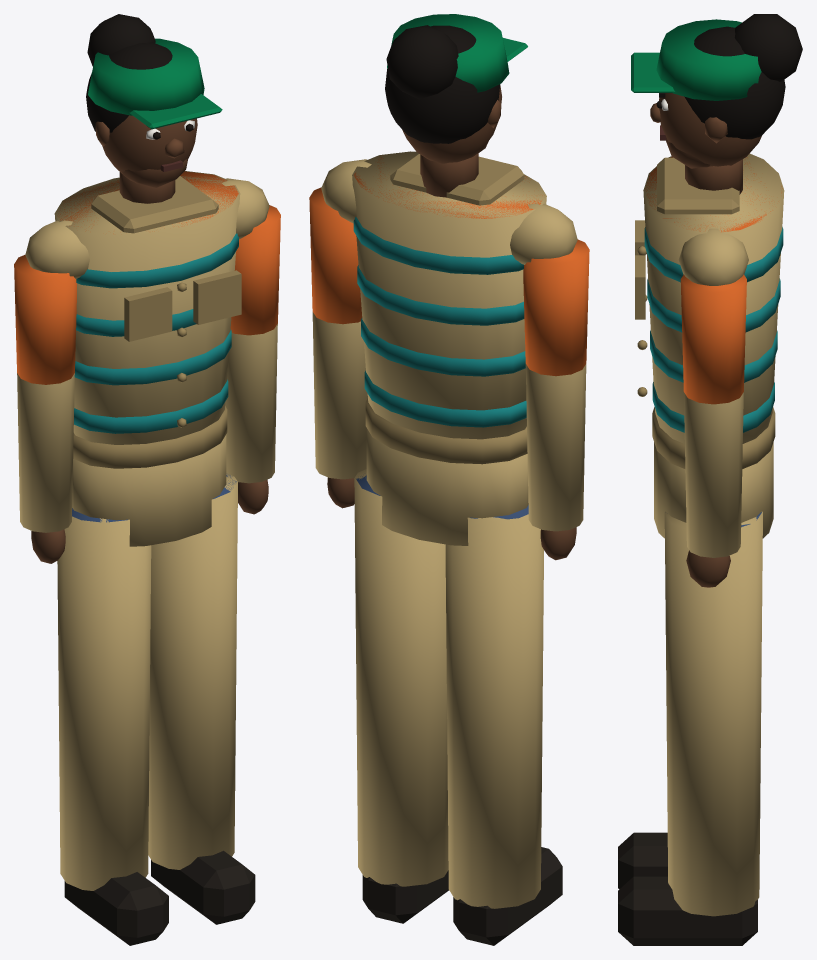
The model's file is corper.fbx.
3 views of the same model, side by side, from view 1: azimuth 30°, elevation 25°; view 2: azimuth 150°, elevation 25°; view 3: azimuth 270°, elevation 25° (orthographic). The views are drawn at different scales.
Parts seen in each view (by area): view 1: LegR_Kit, LegL_Kit, Torso_Kit, Hips_Kit, ArmR_SleeveKit, ArmL_SleeveKit, ArmR_SleeveMufti, Cap_Kit, BootL, BootR, ArmL_SleeveMufti, Belt_Kit (+18 smaller); view 2: LegR_Kit, LegL_Kit, Torso_Kit, Hips_Kit, ArmR_SleeveKit, ArmL_SleeveKit, ArmR_SleeveMufti, HairF, ArmL_SleeveMufti, Belt_Kit, HairFBun, BootR (+14 smaller); view 3: LegL_Kit, Torso_Kit, ArmL_SleeveKit, ArmL_SleeveMufti, BootL, Cap_Kit, HairF, Hips_Kit, Head, HairFBun, Shoulder0.19_Kit, Collar_Kit (+13 smaller).
Boxes of the visible parts, box(x1,y1,x2,y2) form: LegR_Kit: box(57, 516, 151, 890); LegL_Kit: box(148, 473, 237, 869); Torso_Kit: box(54, 171, 240, 444); Hips_Kit: box(72, 434, 226, 546); ArmR_SleeveKit: box(17, 373, 74, 532); ArmL_SleeveKit: box(225, 323, 277, 483); ArmR_SleeveMufti: box(14, 255, 76, 384); Cap_Kit: box(88, 38, 204, 115); BootL: box(151, 850, 255, 924); BootR: box(64, 872, 168, 945); ArmL_SleeveMufti: box(230, 205, 280, 335); Belt_Kit: box(73, 406, 227, 468); LegR_Kit: box(445, 514, 543, 908); LegL_Kit: box(354, 469, 448, 886); Torso_Kit: box(352, 151, 546, 439); Hips_Kit: box(366, 428, 528, 545); ArmR_SleeveKit: box(525, 364, 586, 531); ArmL_SleeveKit: box(312, 312, 367, 479); ArmR_SleeveMufti: box(523, 239, 589, 376); HairF: box(385, 25, 500, 143); ArmL_SleeveMufti: box(309, 187, 362, 324); Belt_Kit: box(365, 398, 527, 464); HairFBun: box(386, 25, 458, 99); BootR: box(453, 847, 562, 945); LegL_Kit: box(664, 511, 762, 916); Torso_Kit: box(643, 153, 784, 443); ArmL_SleeveKit: box(684, 392, 743, 557); ArmL_SleeveMufti: box(680, 274, 746, 404); BootL: box(618, 876, 757, 945); Cap_Kit: box(656, 19, 761, 100); HairF: box(684, 26, 785, 139); Hips_Kit: box(654, 442, 773, 538); Head: box(659, 93, 761, 166); HairFBun: box(734, 14, 802, 81); Shoulder0.19_Kit: box(678, 228, 748, 285); Collar_Kit: box(657, 157, 739, 214).
Bounding box in the file's own units: 0.598 × 1.92 × 0.357.
